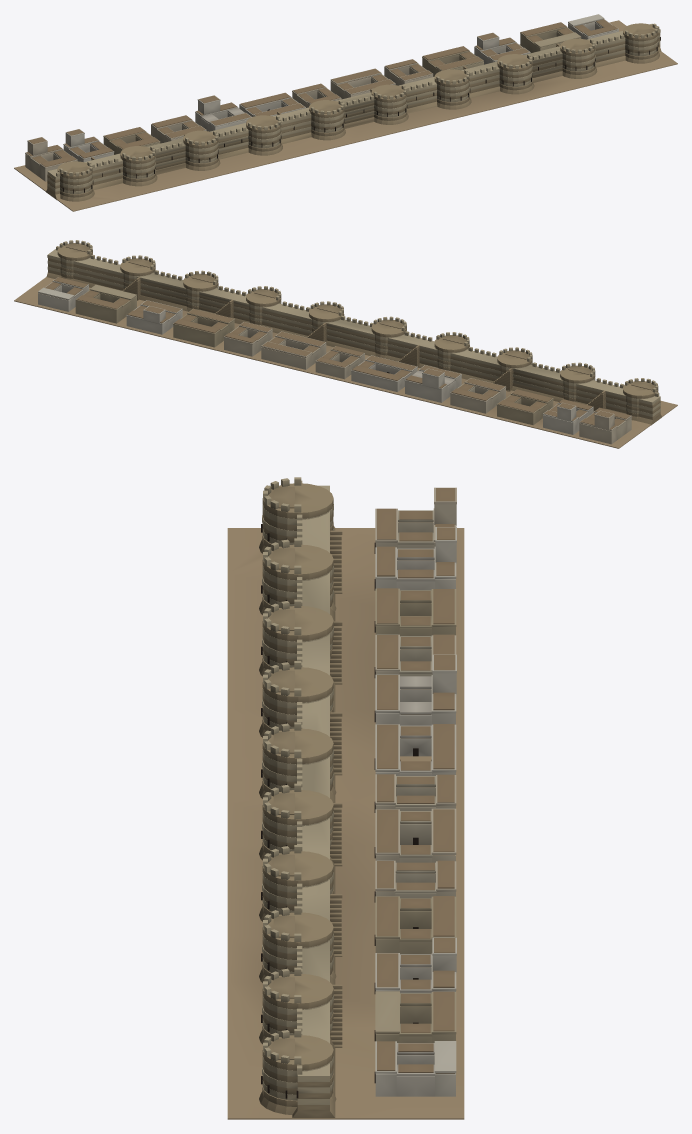
The model's file is sirsukh-wall.glb.
3 views of the same model, one above another, from view 1: azimuth 30°, elevation 25°; view 2: azimuth 150°, elevation 25°; view 3: azimuth 270°, elevation 25° (orthographic). The views are drawn at different scales.
Visible parts, largest first — view 1: p2_bastions and battlements, p3_houses inside, p0_ground, p1_wall; view 2: p3_houses inside, p1_wall, p2_bastions and battlements, p0_ground; view 3: p3_houses inside, p0_ground, p2_bastions and battlements, p1_wall.
Boxes of the visible parts, bbox=[...] form: p2_bastions and battlements: bbox=[56, 23, 660, 201]; p3_houses inside: bbox=[25, 14, 618, 181]; p0_ground: bbox=[14, 20, 677, 211]; p1_wall: bbox=[46, 23, 661, 199]; p3_houses inside: bbox=[38, 277, 631, 444]; p1_wall: bbox=[46, 249, 661, 425]; p2_bastions and battlements: bbox=[56, 240, 659, 420]; p0_ground: bbox=[14, 277, 677, 448]; p3_houses inside: bbox=[330, 487, 456, 1096]; p0_ground: bbox=[227, 528, 464, 1119]; p2_bastions and battlements: bbox=[259, 477, 336, 1114]; p1_wall: bbox=[292, 485, 335, 1117].
Bounding box in the file's own units: 260 × 11.8 × 44.01.
